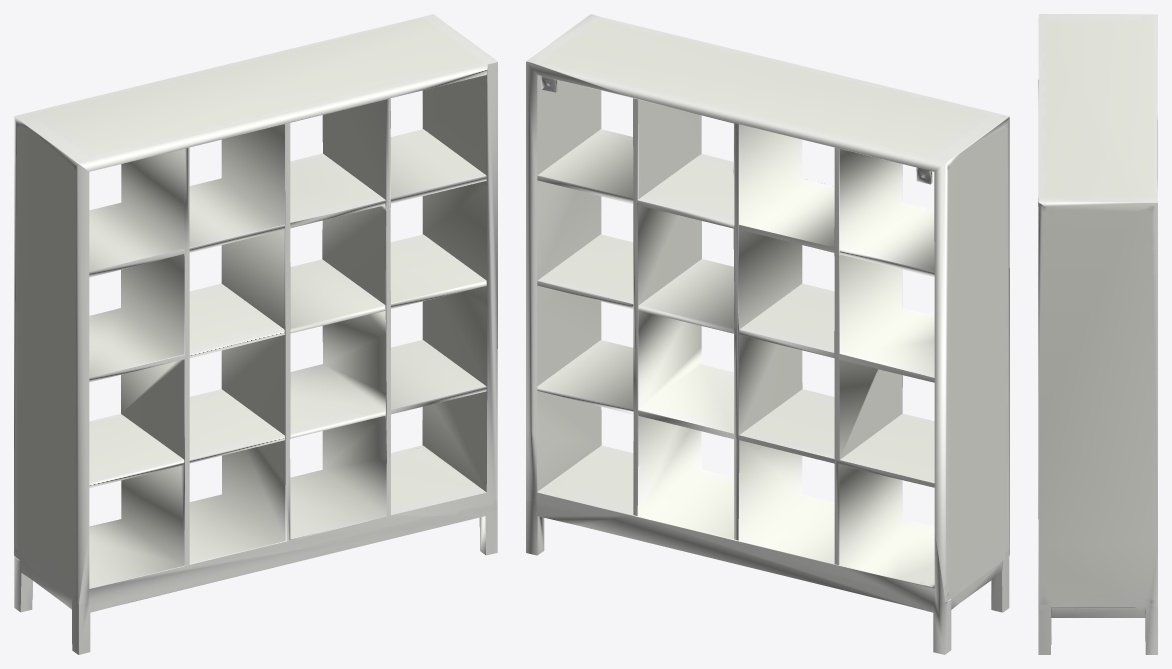
The model's file is kallax_rega_z_rama_nosna_09442720.glb.
3 renders of one model, left to right at view 1: azimuth 30°, elevation 25°; view 2: azimuth 150°, elevation 25°; view 3: azimuth 270°, elevation 25°, orthographic. The views are drawn at different scales.
Parts seen in each view (by area): view 1: kallax_rega_z_rama_nosna_09442720; view 2: kallax_rega_z_rama_nosna_09442720; view 3: kallax_rega_z_rama_nosna_09442720.
Part boxes in pixels (box(x1,y1,x2,y2)): kallax_rega_z_rama_nosna_09442720: box(14, 14, 497, 654); kallax_rega_z_rama_nosna_09442720: box(526, 14, 1009, 654); kallax_rega_z_rama_nosna_09442720: box(1038, 14, 1157, 654).
Size of the model in its own units: 1.47 by 1.65 by 0.3937.
Materials: 1 (1 with a texture image).
